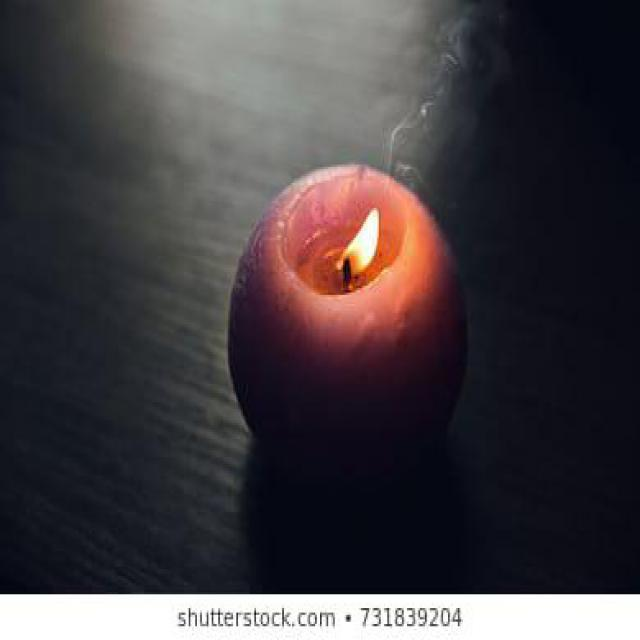Fire: (335, 208, 380, 279)
